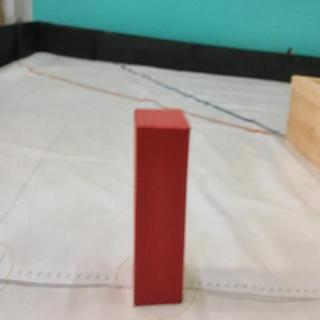redbox: (132, 106, 188, 305), (187, 305, 190, 305)
